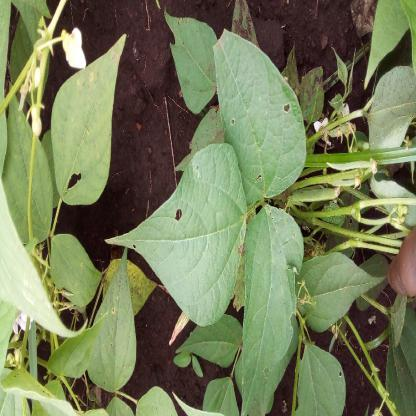Beans_Angular_LeafSpot: (110, 147, 247, 322), (214, 23, 304, 202), (45, 30, 116, 208)
